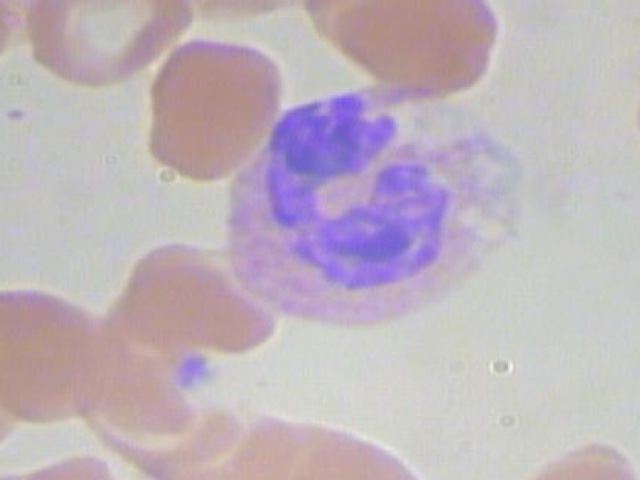Platelets: (167, 344, 220, 391)
RBC: (132, 35, 294, 182), (12, 0, 198, 97), (328, 0, 505, 94), (0, 285, 102, 406), (287, 433, 456, 480), (500, 433, 640, 480), (0, 445, 143, 480), (625, 46, 640, 189), (0, 0, 24, 88)
WBC: (218, 75, 564, 335)
